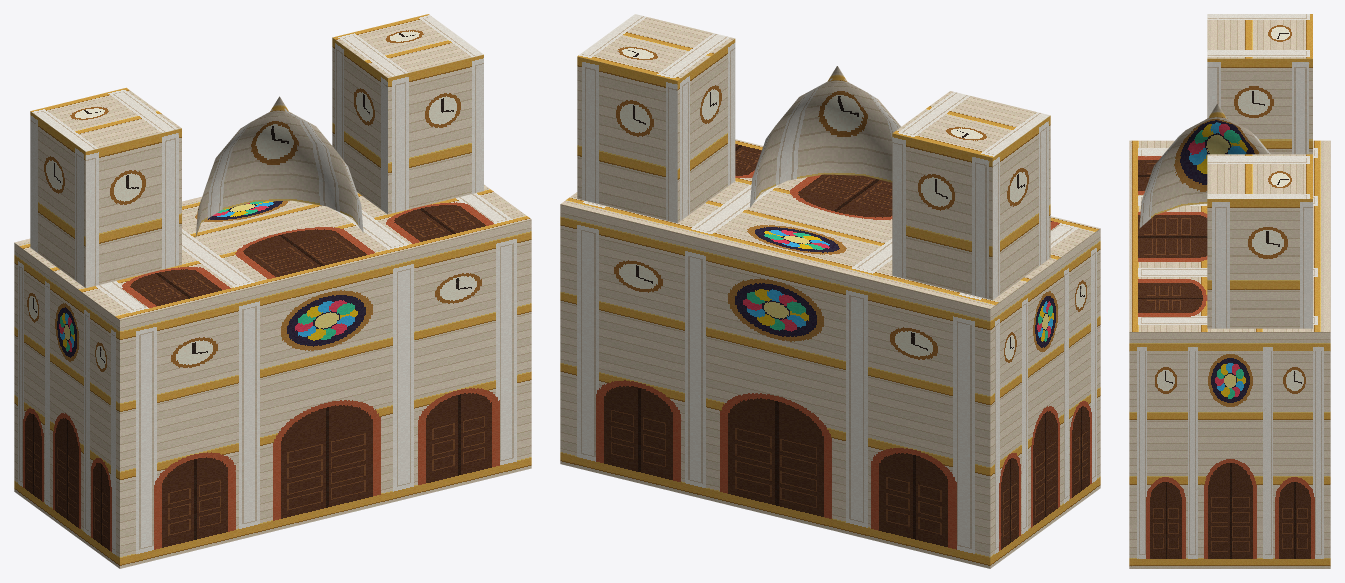
Rendered from catedral_quibdo.glb.
3 renders of one model, left to right at view 1: azimuth 30°, elevation 25°; view 2: azimuth 150°, elevation 25°; view 3: azimuth 270°, elevation 25°, orthographic. The views are drawn at different scales.
Parts seen in each view (by area): view 1: catedral_quibdo; view 2: catedral_quibdo; view 3: catedral_quibdo.
Part boxes in pixels (x1,y1,x2,y2): catedral_quibdo: (14,14,531,568); catedral_quibdo: (560,14,1100,568); catedral_quibdo: (1129,14,1330,568).
Size of the model in its own units: 18 by 16.2 by 8.
Materials: 1 (1 with a texture image).
